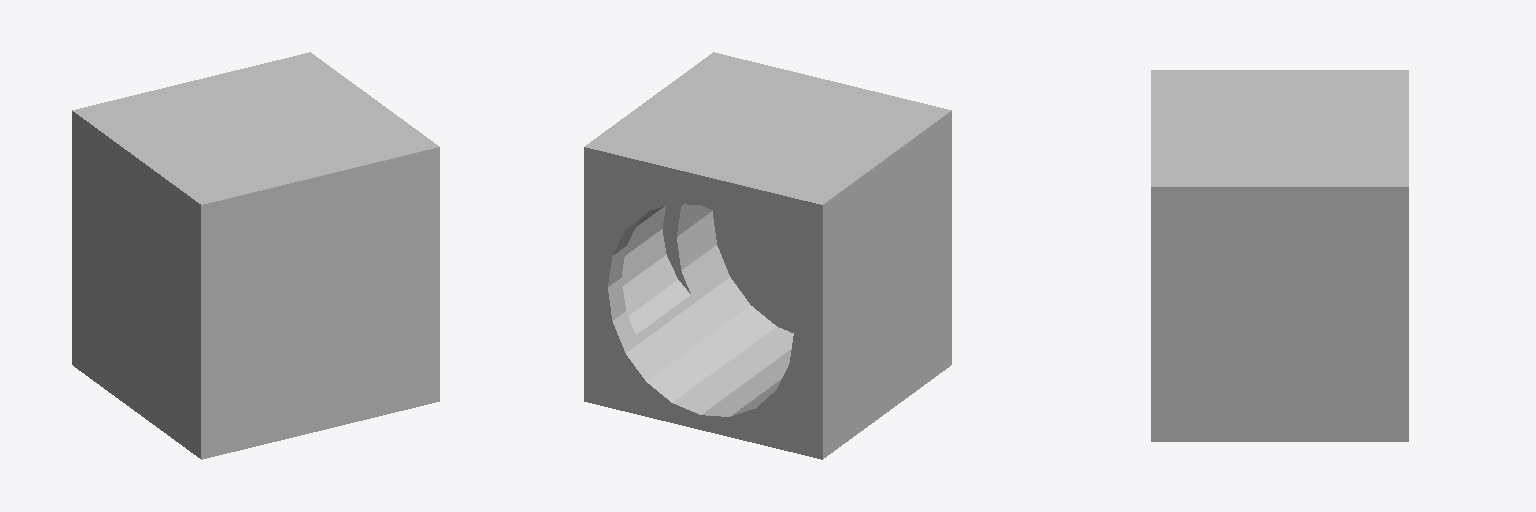
The model's file is Soporte_camera.obj.
3 renders of one model, left to right at view 1: azimuth 30°, elevation 25°; view 2: azimuth 150°, elevation 25°; view 3: azimuth 270°, elevation 25°, orthographic.
Parts seen in each view (by area): view 1: obj_0; view 2: obj_0; view 3: obj_0.
Part boxes in pixels (x1,y1,x2,y2): obj_0: (72,52,439,459); obj_0: (584,52,951,459); obj_0: (1151,70,1408,441).
Bounding box in the file's own units: 50 × 51 × 47.